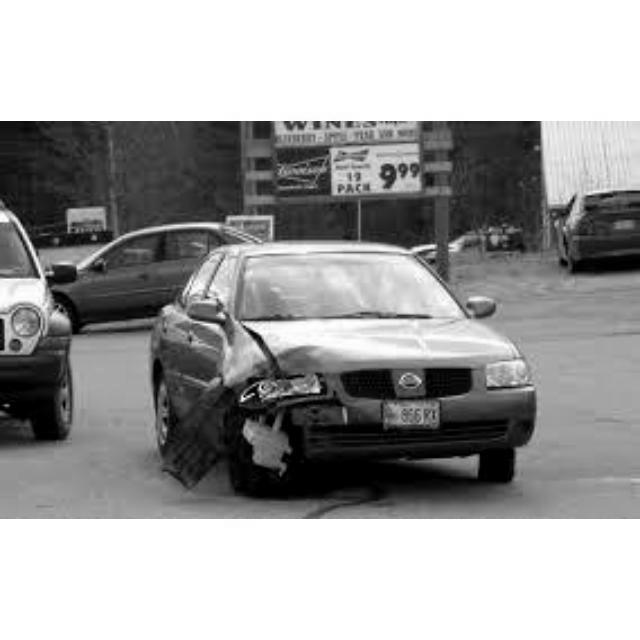Headlight-damage: (230, 362, 326, 416)
doorouter-dent: (251, 318, 474, 363)
